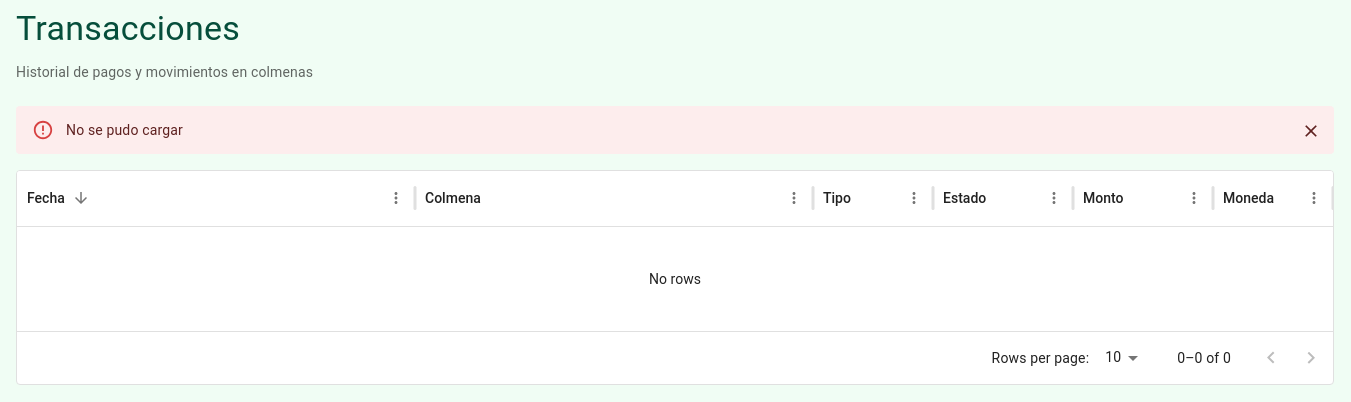
Scenario: Transactions Page › renders an error alert when fetching fails and allows dismissing it
Expected: the text "No se pudo cargar" is shown, x1=66 y1=122 x2=183 y2=138
Click the button named "close" at {"x": 1311, "y": 131}, box x1=1296 y1=116 x2=1326 y2=146
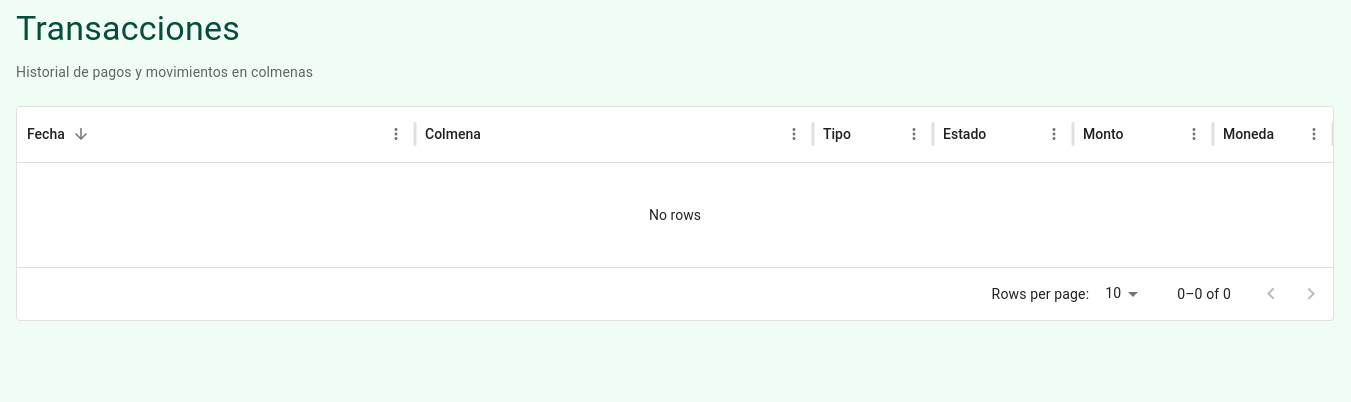
Now the text "No se pudo cargar" is gone
